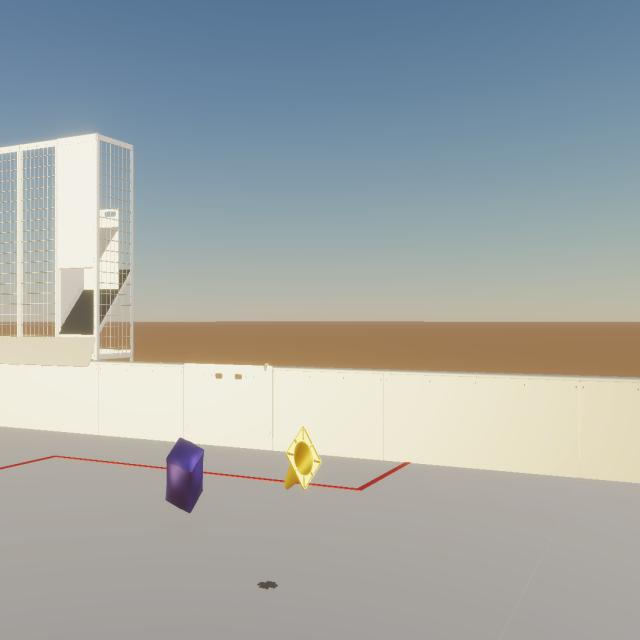frc_cone: (284, 426, 322, 490)
frc_cube: (166, 438, 204, 514)
